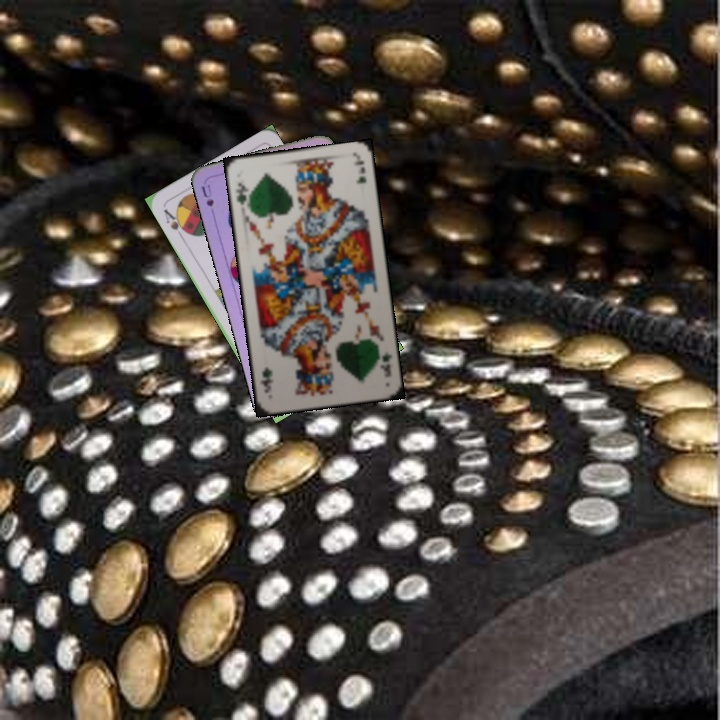GK: (376, 347, 394, 380), (231, 179, 251, 208)
SA: (160, 205, 191, 241)
SU: (197, 180, 216, 221)
